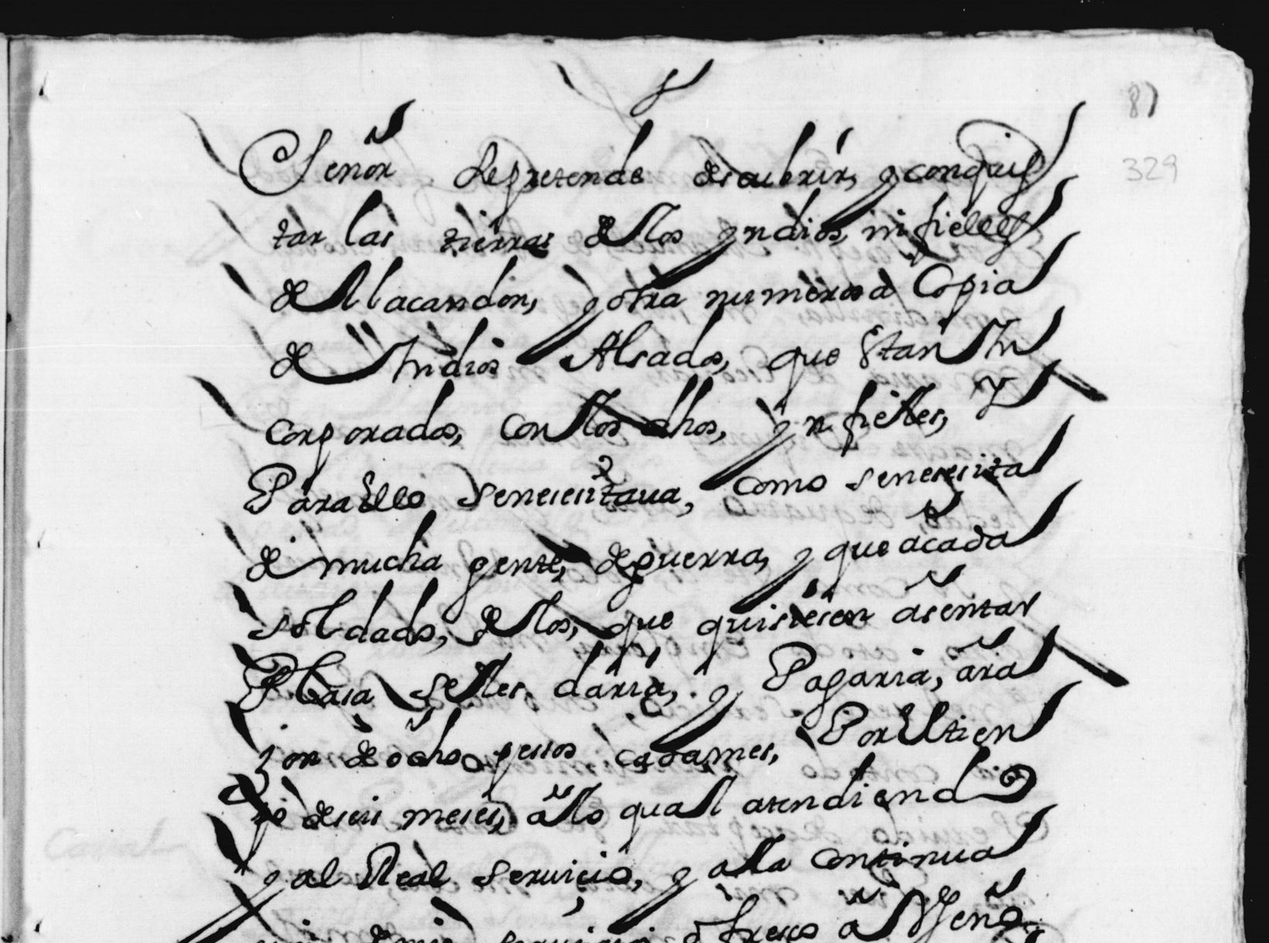lacandon: (366, 255, 529, 313)
